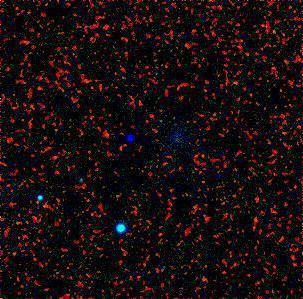star: (112, 125, 142, 155)
